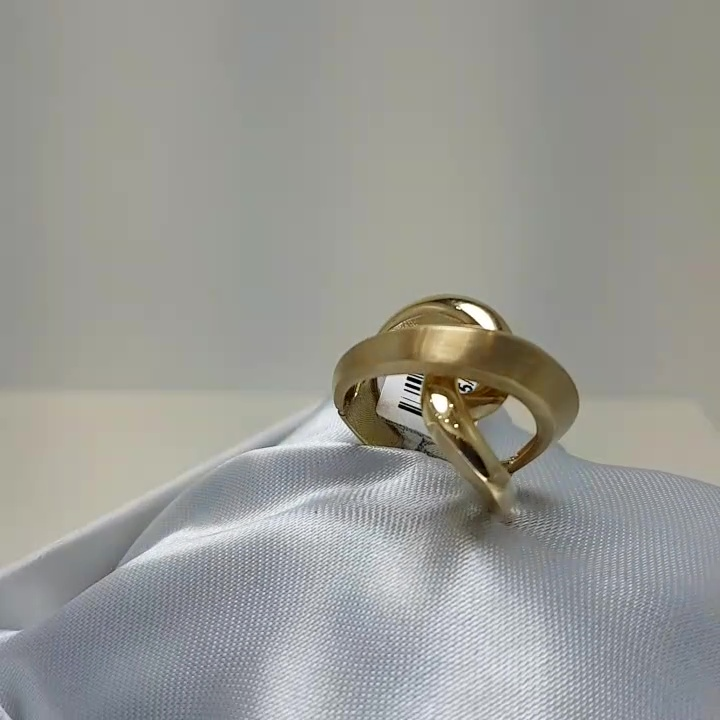Ring 3: (305, 275, 619, 524)
